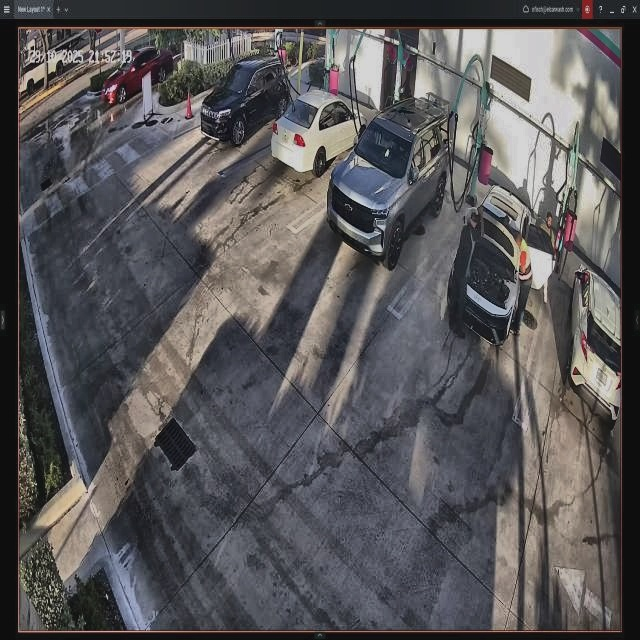Car: (331, 94, 451, 266), (453, 186, 552, 336), (200, 55, 290, 148), (273, 89, 367, 174)
